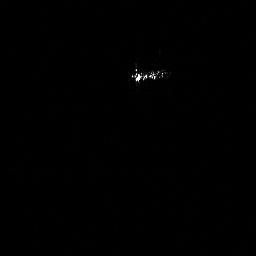ship: (128, 62, 171, 86)
